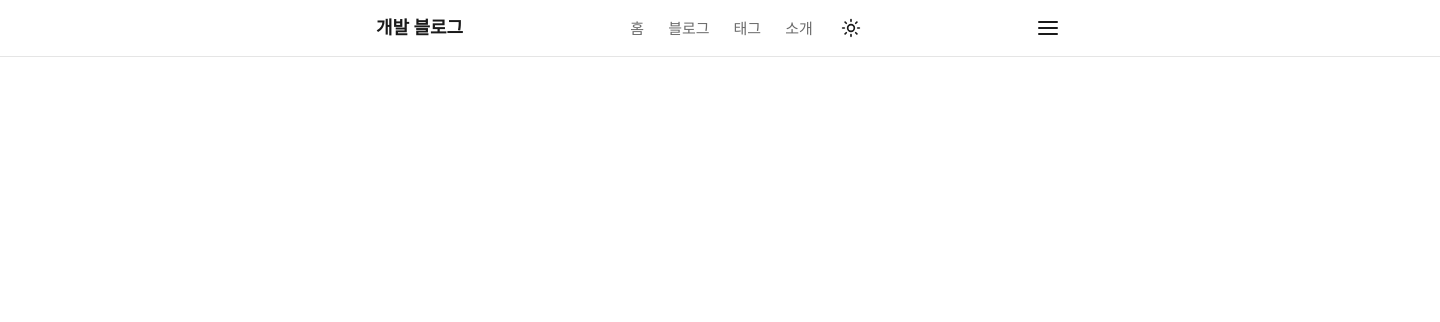
Scenario: Navigation › hamburger menu › opens mobile menu on hamburger click
The image size is (1440, 322).
Click the button with test id "hamburger-button".
click(1048, 28)  # box [1032,12,1064,44]
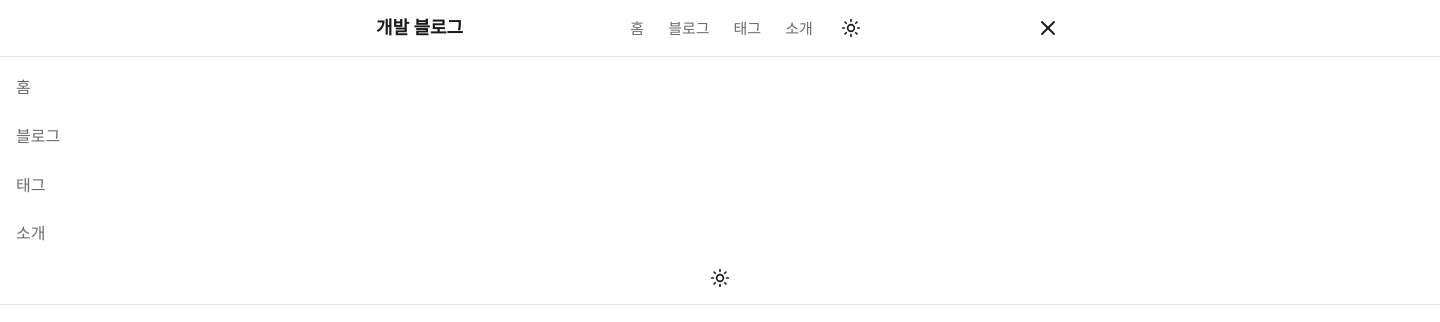
Result: the element with test id "mobile-menu" is shown
